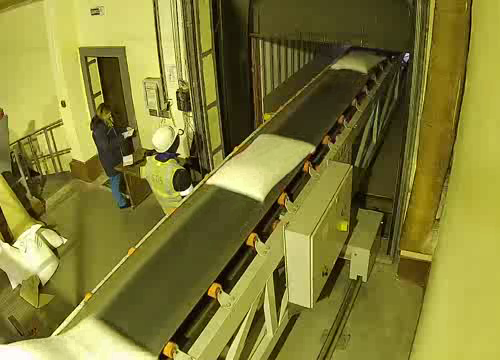bag: (200, 126, 329, 205), (0, 307, 166, 360), (324, 43, 399, 78)
